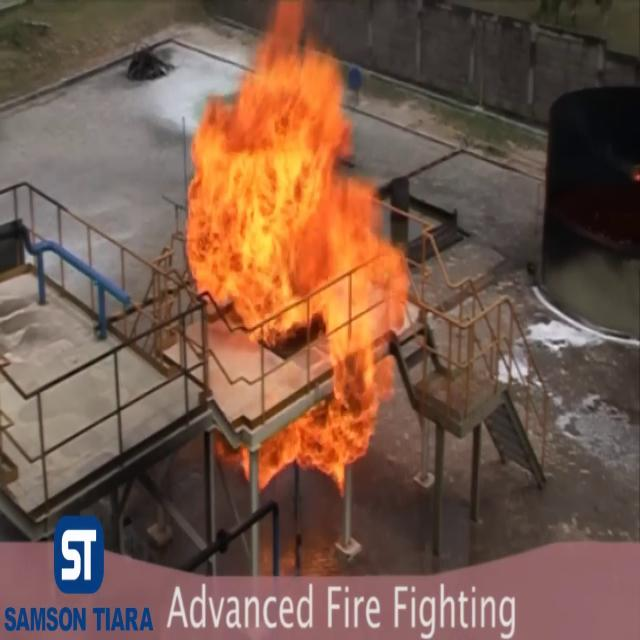Fire: (174, 4, 417, 505)
